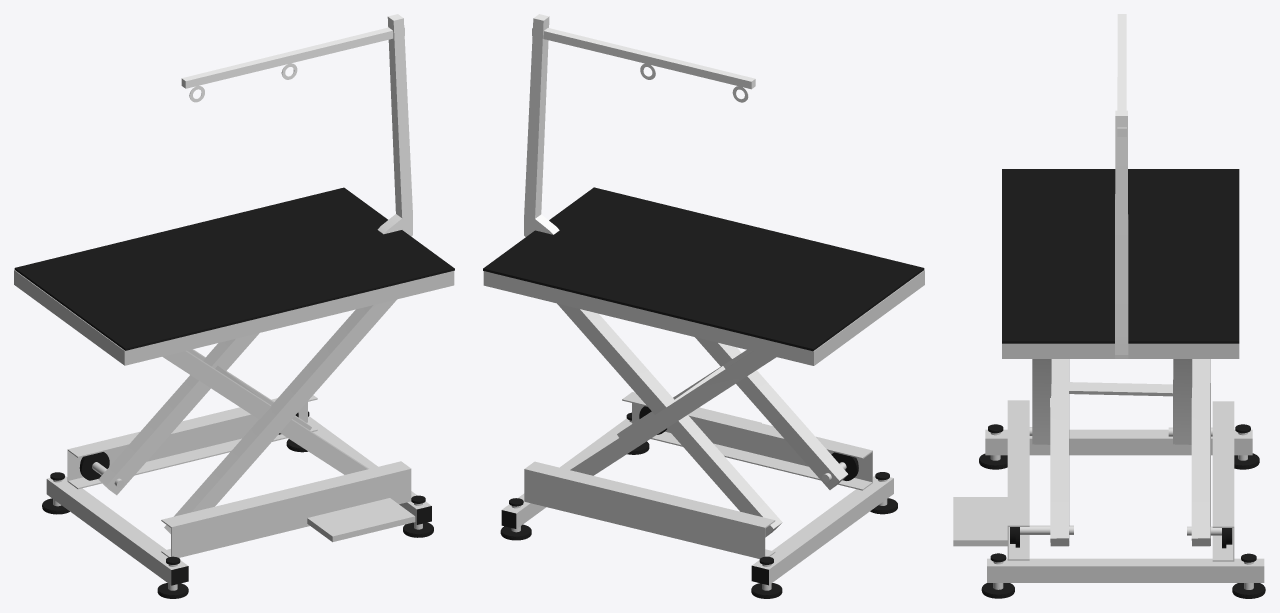
Rendered from GroomingTable.fbx.
3 views of the same model, side by side, from view 1: azimuth 30°, elevation 25°; view 2: azimuth 150°, elevation 25°; view 3: azimuth 270°, elevation 25° (orthographic). The views are drawn at different scales.
Parts seen in each view (by area): view 1: Cube.008, Cube.001, Circle.008, Circle.002; view 2: Cube.008, Cube.001, Circle.008, Circle.002; view 3: Cube.001, Cube.008, Circle.008, Circle.002.
Part boxes in pixels (<box>): Cube.008: <box>14,270,454,585</box>; Cube.001: <box>14,187,454,350</box>; Circle.008: <box>181,14,412,236</box>; Circle.002: <box>42,411,433,598</box>; Cube.008: <box>483,270,924,585</box>; Cube.001: <box>483,187,924,351</box>; Circle.008: <box>524,14,755,236</box>; Circle.002: <box>500,406,897,598</box>; Cube.001: <box>1002,169,1239,343</box>; Cube.008: <box>953,343,1264,582</box>; Circle.008: <box>1115,14,1128,358</box>; Circle.002: <box>979,424,1265,598</box>.
Size of the model in its own units: 710 by 922 by 525.
